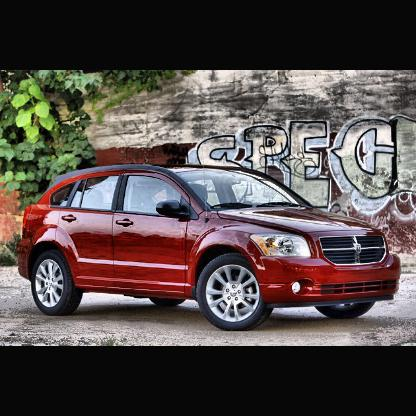Dodge Caliber Wagon 2012: (17, 165, 401, 332)
